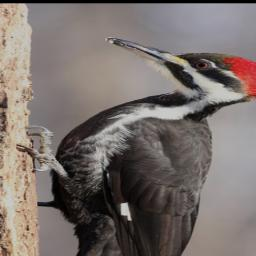Woodpecker: (24, 34, 256, 256)
